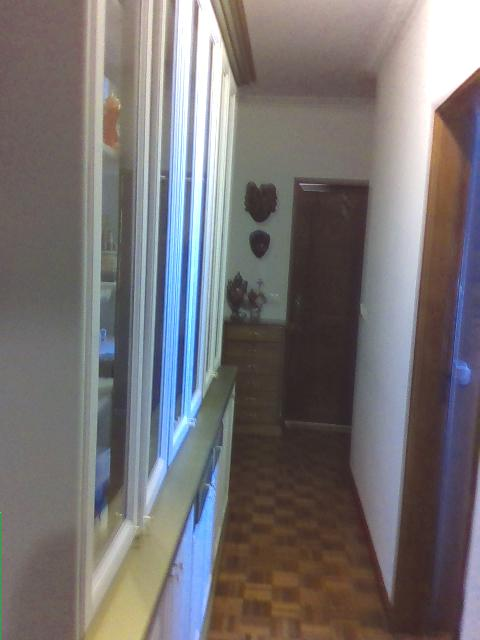closed_door: (279, 176, 369, 423)
